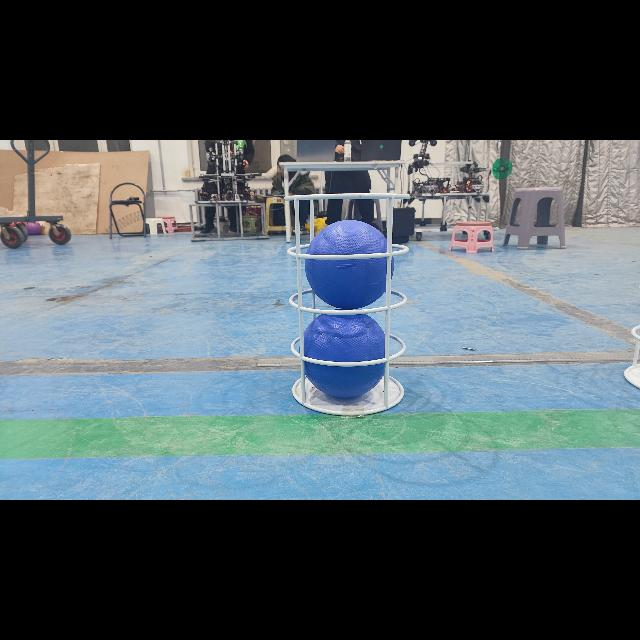B: (303, 220, 402, 308), (300, 310, 388, 398)
S: (274, 187, 420, 419)
